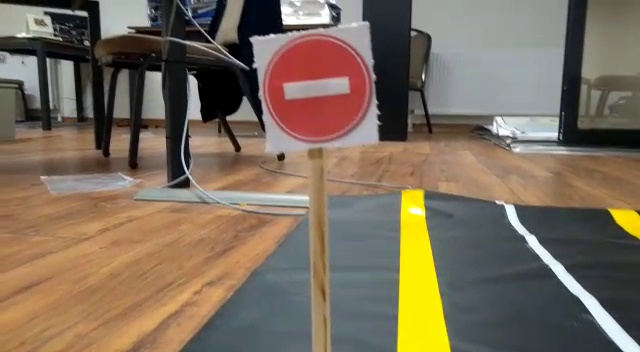girisi_olmayan_yol: (253, 38, 379, 145)
